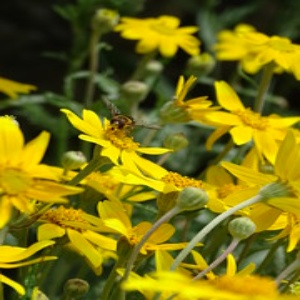bee: (100, 95, 167, 139)
